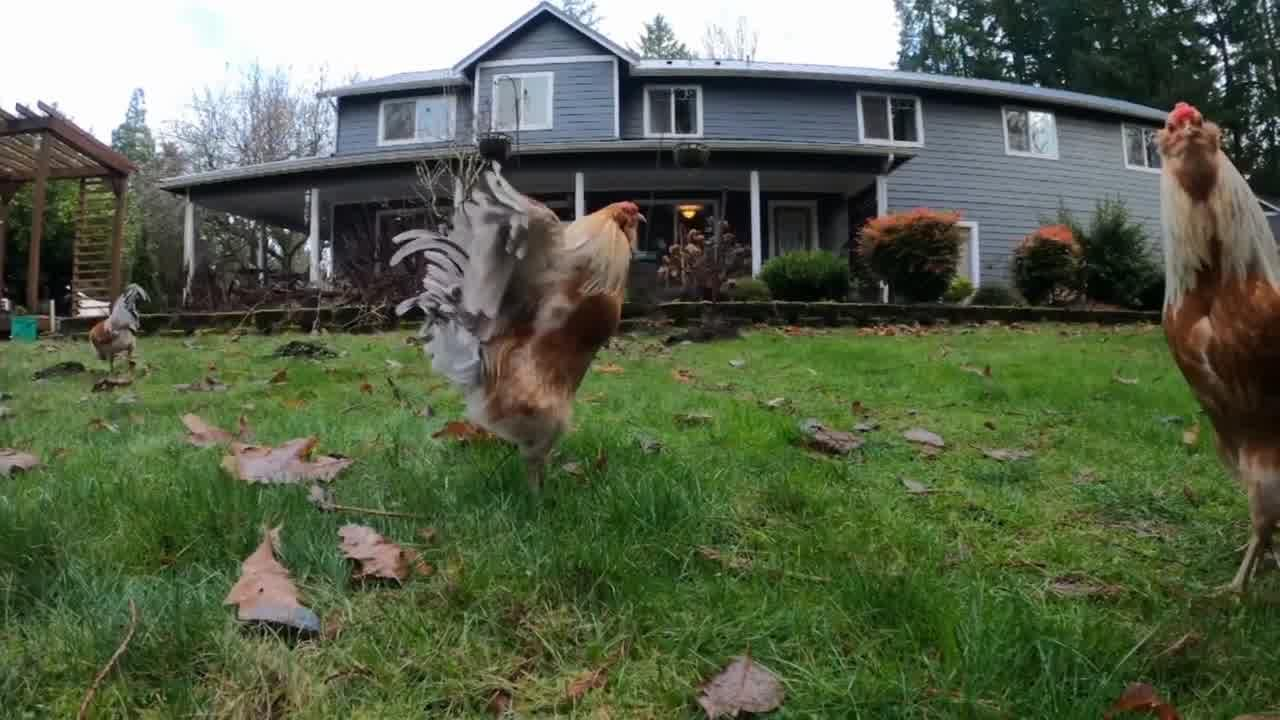Normal: (402, 154, 654, 520), (1114, 102, 1280, 568)
